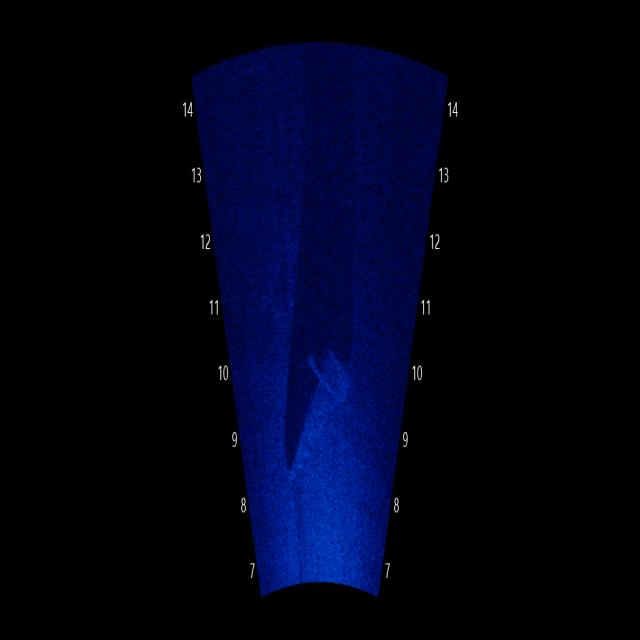triangle: (280, 329, 359, 481)
